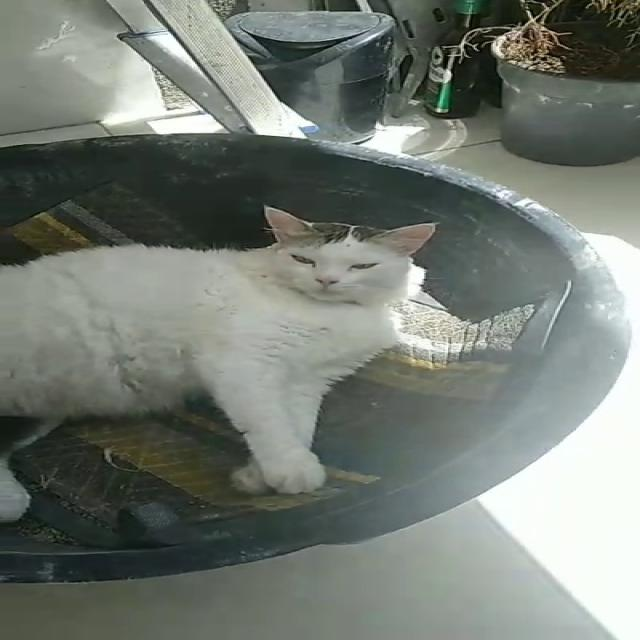Simba: (0, 174, 445, 534)
